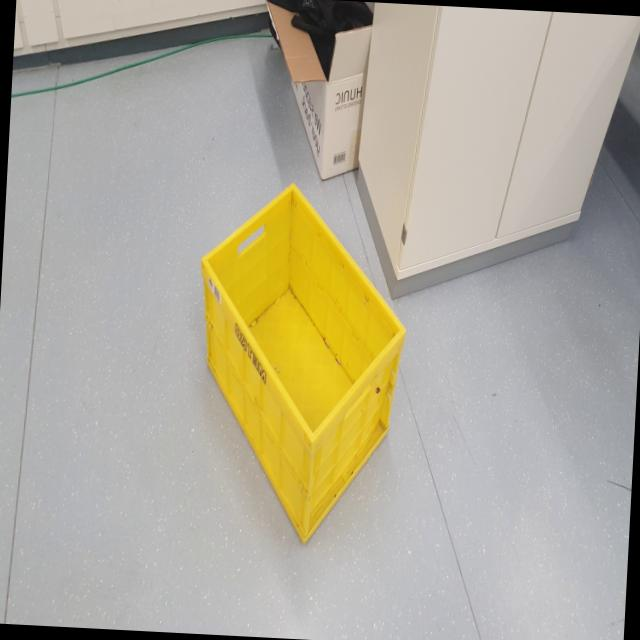box: (185, 175, 418, 562)
